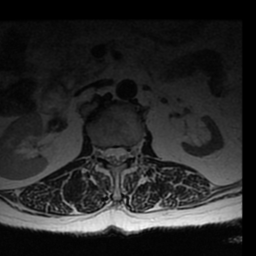CCS_normal: (112, 138, 118, 172)
LFS_normal: (127, 142, 135, 163)
LLS_normal: (119, 141, 126, 168)
RFS_normal: (96, 142, 103, 165)
RLS_normal: (104, 143, 112, 168)
